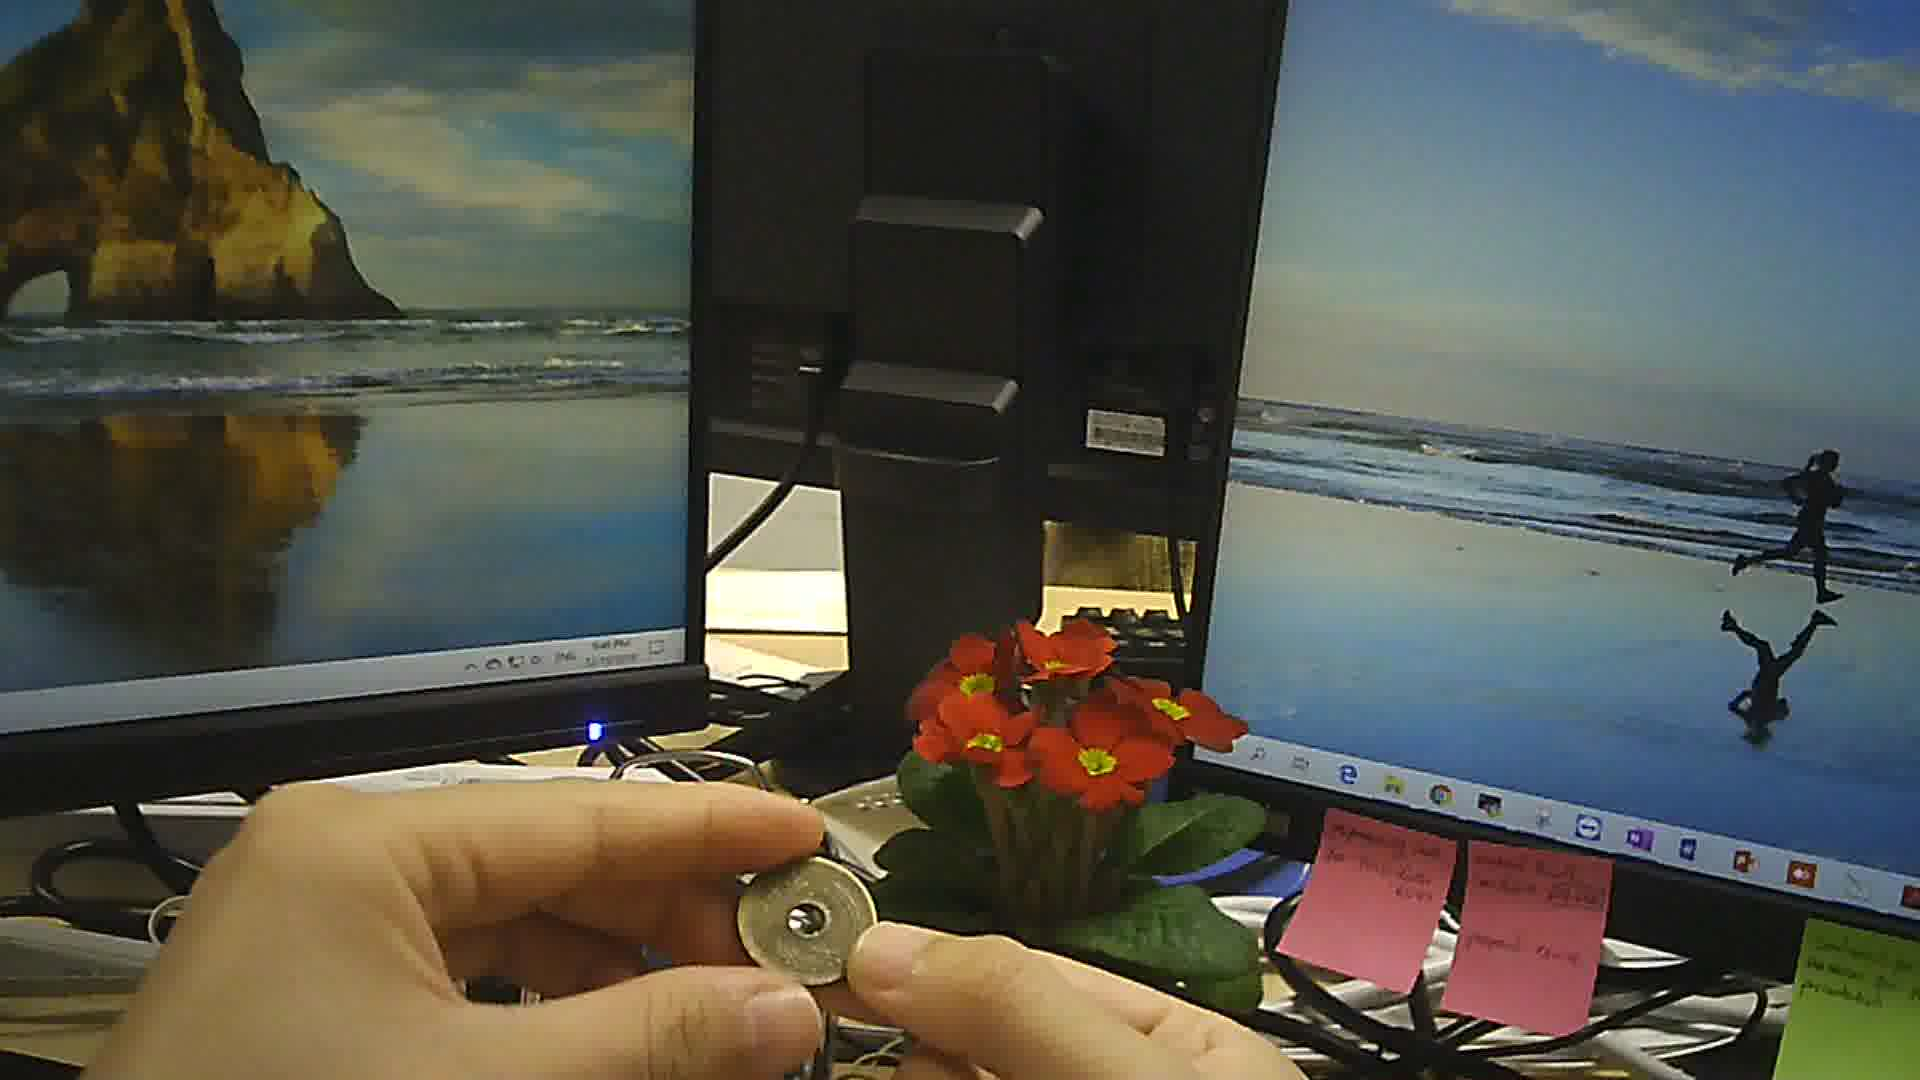5 Yen: (731, 836, 884, 989)
